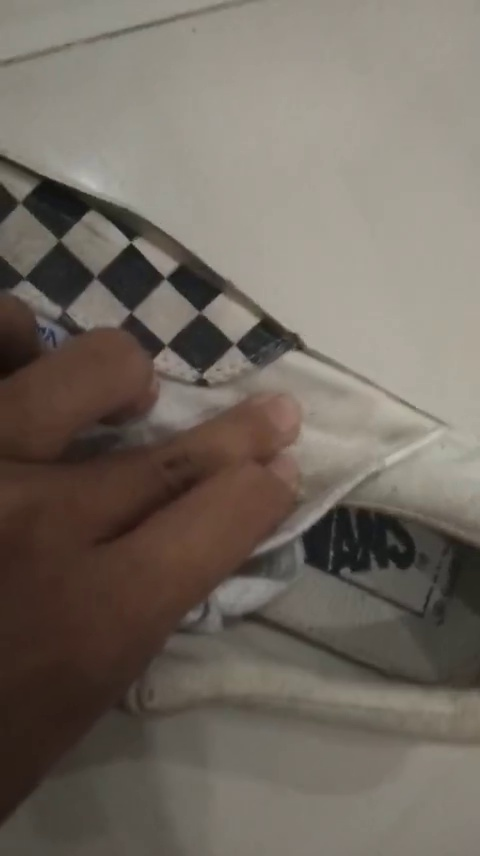bonding: (8, 157, 295, 344)
